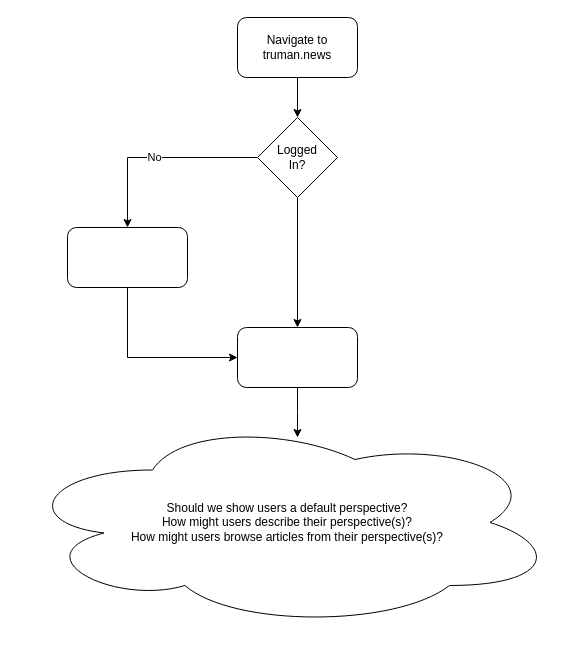
This 575x645 diagram has some shape labels left out. The centre of each missing label's shape, as x and y in pixels:
News Dashboard: [297,357]
Sign In: [127,257]
